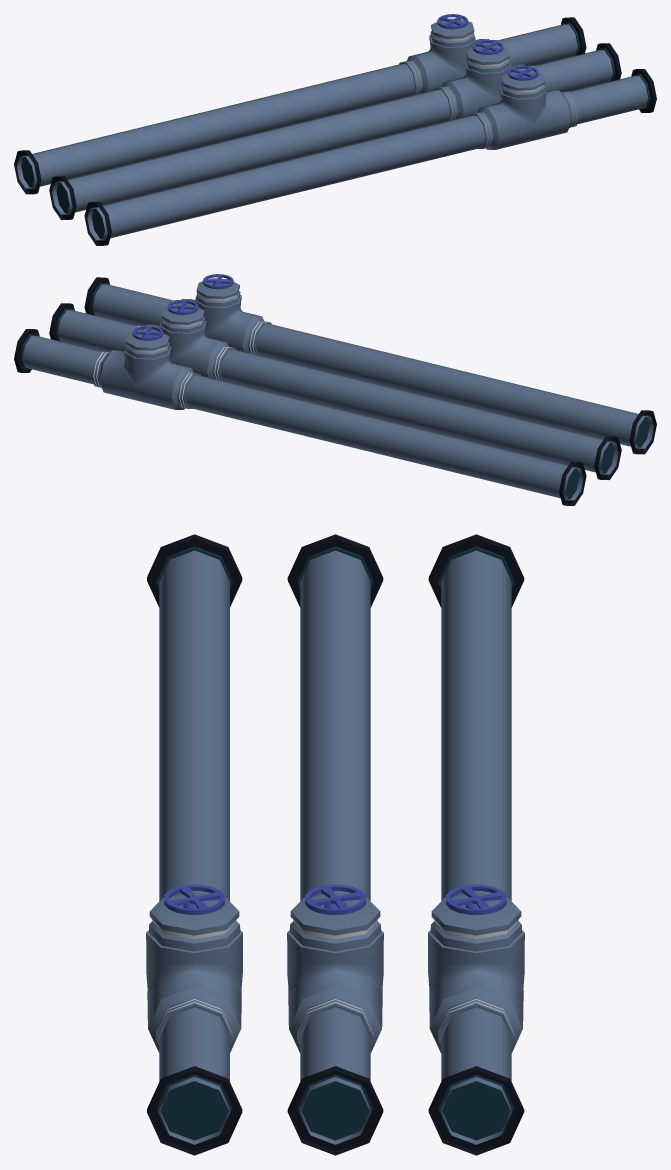
The model's file is PipeComplexSmall_A_03.fbx.
3 renders of one model, top to bottom at view 1: azimuth 30°, elevation 25°; view 2: azimuth 150°, elevation 25°; view 3: azimuth 270°, elevation 25°, orthographic. The views are drawn at different scales.
Parts seen in each view (by area): view 1: PipeComplexSmall_A_03.001; view 2: PipeComplexSmall_A_03.001; view 3: PipeComplexSmall_A_03.001.
Boxes of the visible parts, box(x1,y1,x2,y2) form: PipeComplexSmall_A_03.001: box(14, 14, 656, 245); PipeComplexSmall_A_03.001: box(14, 274, 656, 505); PipeComplexSmall_A_03.001: box(146, 534, 524, 1155).
Bounding box in the file's own units: 1.8 × 0.2185 × 0.5378.
